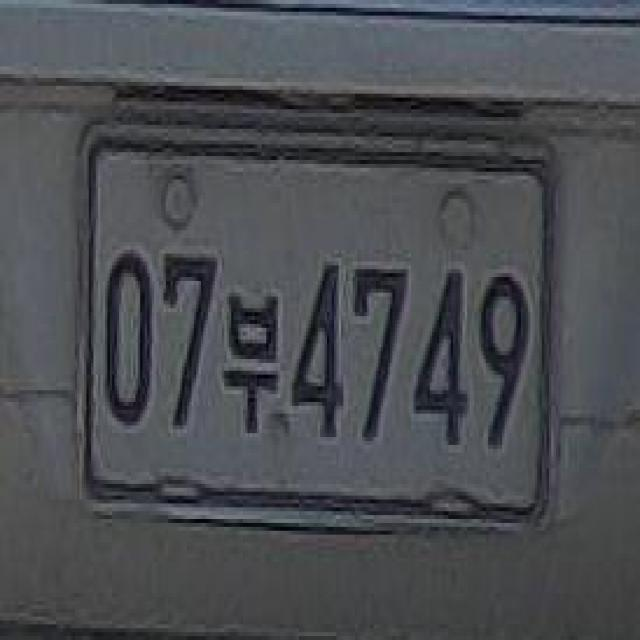illegal_plate: (73, 121, 558, 543)
